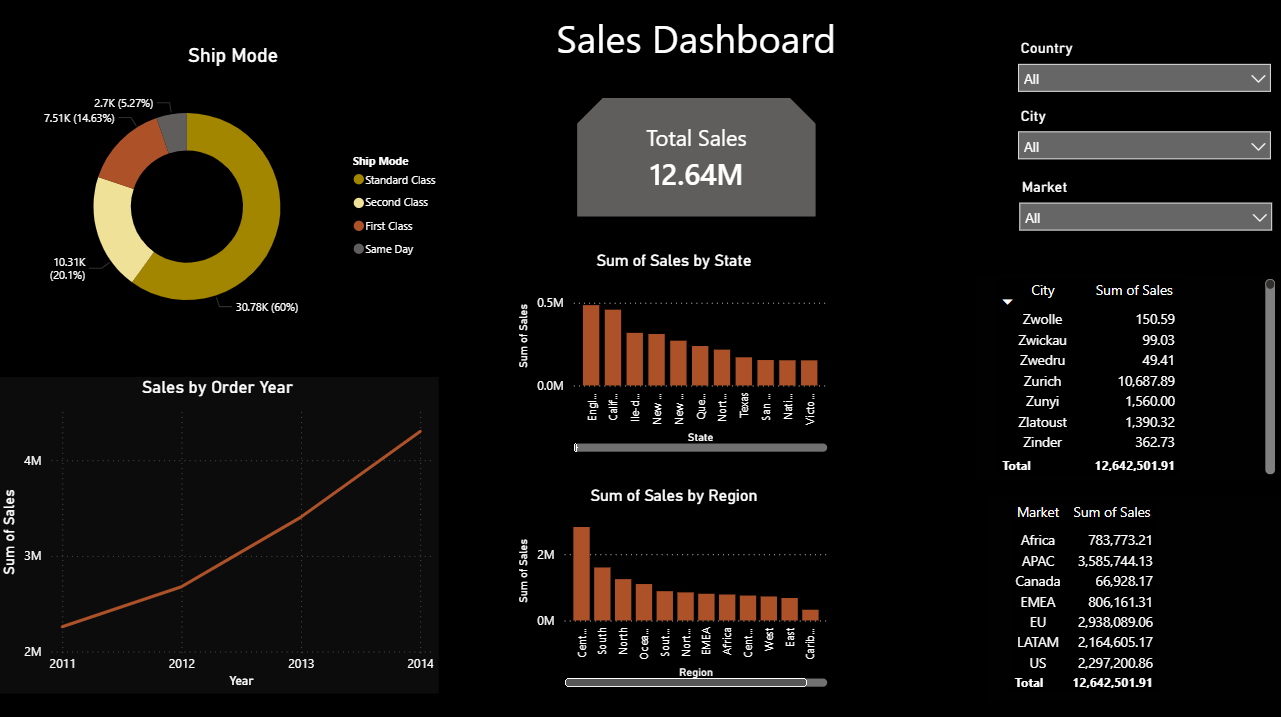

Layout of this report page (visuals, bound fields, positions):
{"tool":"powerbi","page":{"name":"Page 2","canvas":[1280,720],"ordinal":0},"visuals":[{"type":"slicer","fields":{"Values":["Orders.Country"]},"box":[1000.5,46.5,267.8,90.5],"z":0},{"type":"slicer","fields":{"Values":["Orders.City"]},"box":[1000.5,112.5,267.8,79.5],"z":1000},{"type":"slicer","fields":{"Values":["Orders.Market"]},"box":[1001.7,182.2,267.8,84.4],"z":2000},{"type":"textbox","box":[454.9,20,481.8,72.1],"z":3000},{"type":"cardVisual","fields":{"Data":["Orders.total sales"]},"box":[562.5,91.7,267.8,150.4],"z":4000},{"type":"donutChart","title":" Ship Mode","fields":{"Category":["Orders.Ship Mode"],"Y":["CountNonNull(Orders.Ship Mode)"]},"box":[30.6,56.3,424.3,293.5],"z":5000},{"type":"columnChart","fields":{"Category":["Orders.State"],"Y":["Sum(Orders.Sales)"]},"box":[516,258,314.3,203],"z":6000},{"type":"columnChart","fields":{"Category":["Orders.Region"],"Y":["Sum(Orders.Sales)"]},"box":[516,487.9,314.3,203],"z":7000},{"type":"lineChart","title":" Sales by Order Year","fields":{"Category":["Orders.Order Date.Variation.Date Hierarchy.Year"],"Y":["Sum(Orders.Sales)"]},"box":[11,381.5,432.9,309.4],"z":8000},{"type":"tableEx","fields":{"Values":["Orders.Market","Sum(Orders.Sales)"]},"box":[980.7,496.5,299.6,203],"z":9000},{"type":"tableEx","fields":{"Values":["Orders.City","Sum(Orders.Sales)"]},"box":[968.5,280,299.6,203],"z":10000}]}

Visuals, with their boxes in screenshot pixels (x1, y1, x2, y2), scaled from the page's 1280x720 canvas onto the 1281x717 screenshot:
slicer - Orders.Country: [1001, 46, 1269, 136]
slicer - Orders.City: [1001, 112, 1269, 191]
slicer - Orders.Market: [1002, 181, 1270, 265]
textbox: [455, 20, 937, 92]
cardVisual - Orders.total sales: [563, 91, 831, 241]
" Ship Mode" donutChart: [31, 56, 455, 348]
columnChart - Orders.State x Sum(Orders.Sales): [516, 257, 831, 459]
columnChart - Orders.Region x Sum(Orders.Sales): [516, 486, 831, 688]
" Sales by Order Year" lineChart: [11, 380, 444, 688]
tableEx - Orders.Market x Sum(Orders.Sales): [981, 494, 1280, 697]
tableEx - Orders.City x Sum(Orders.Sales): [969, 279, 1269, 481]
